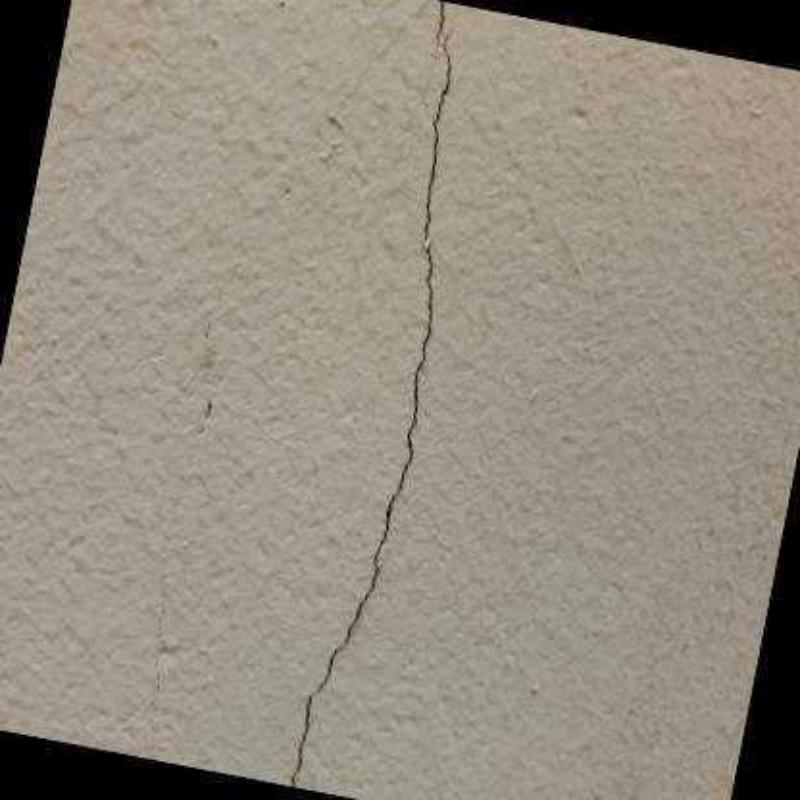pothole: (291, 1, 452, 787)
